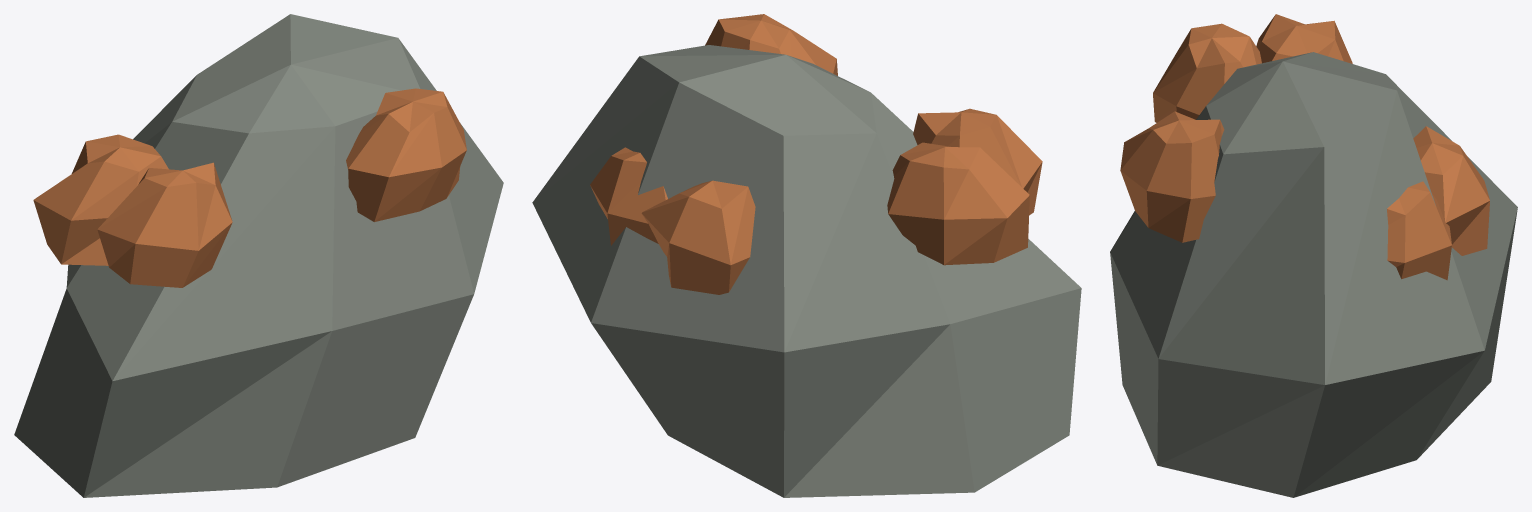
Rendered from copper_node.glb.
The picture shows the model from 3 angles, left to right: view 1: azimuth 30°, elevation 25°; view 2: azimuth 150°, elevation 25°; view 3: azimuth 270°, elevation 25°; orthographic projection. The views are drawn at different scales.
Parts seen in each view (by area): view 1: copper_node; view 2: copper_node; view 3: copper_node.
Part boxes in pixels (x1,y1,x2,y2): copper_node: [14, 14, 503, 497]; copper_node: [532, 14, 1081, 497]; copper_node: [1110, 14, 1517, 497].
Bounding box in the file's own units: 1.8 × 1.25 × 1.25.
